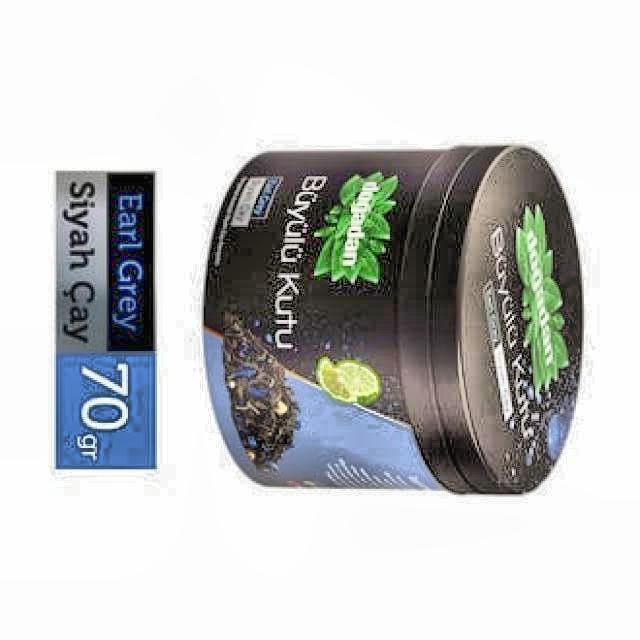plastic: (205, 146, 581, 493)
